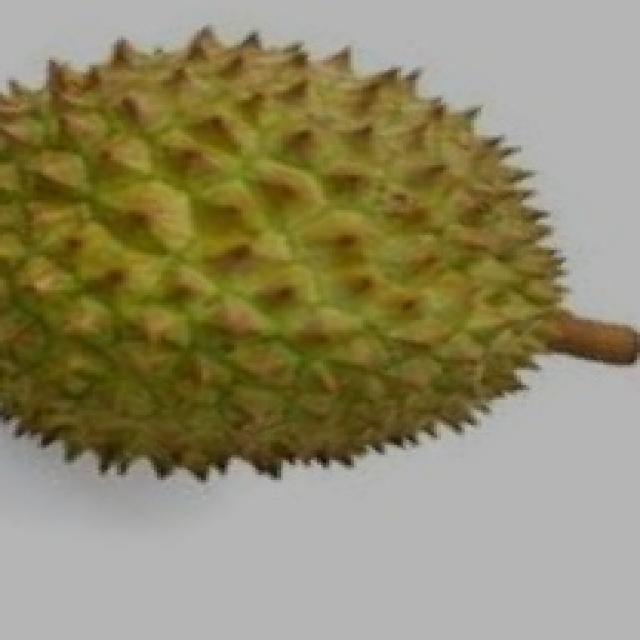fruit: (215, 120, 637, 532), (0, 122, 366, 528)
